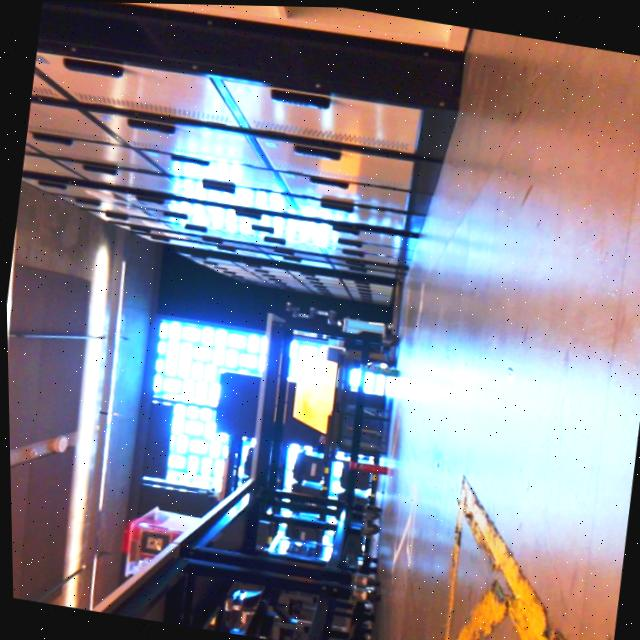greenpringles: (345, 352, 399, 383)
redpringles: (339, 450, 398, 481)
